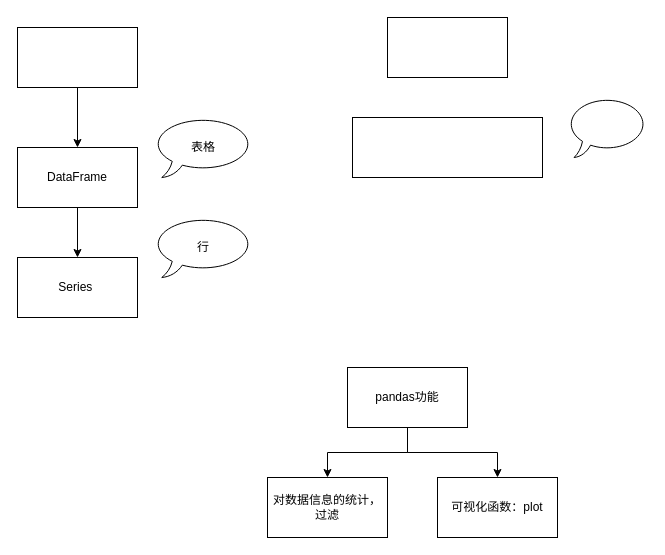
This 665x555 diagram has some shape labels left out. The centre of each missing label's shape, as x and y in pixels:
pandas中的数据结构: (77,57)
pd.read_csv("data.csv"): (447,147)
与csv的交互: (447,47)
其他文件的交互类似，返回为DataFrame: (607,127)
